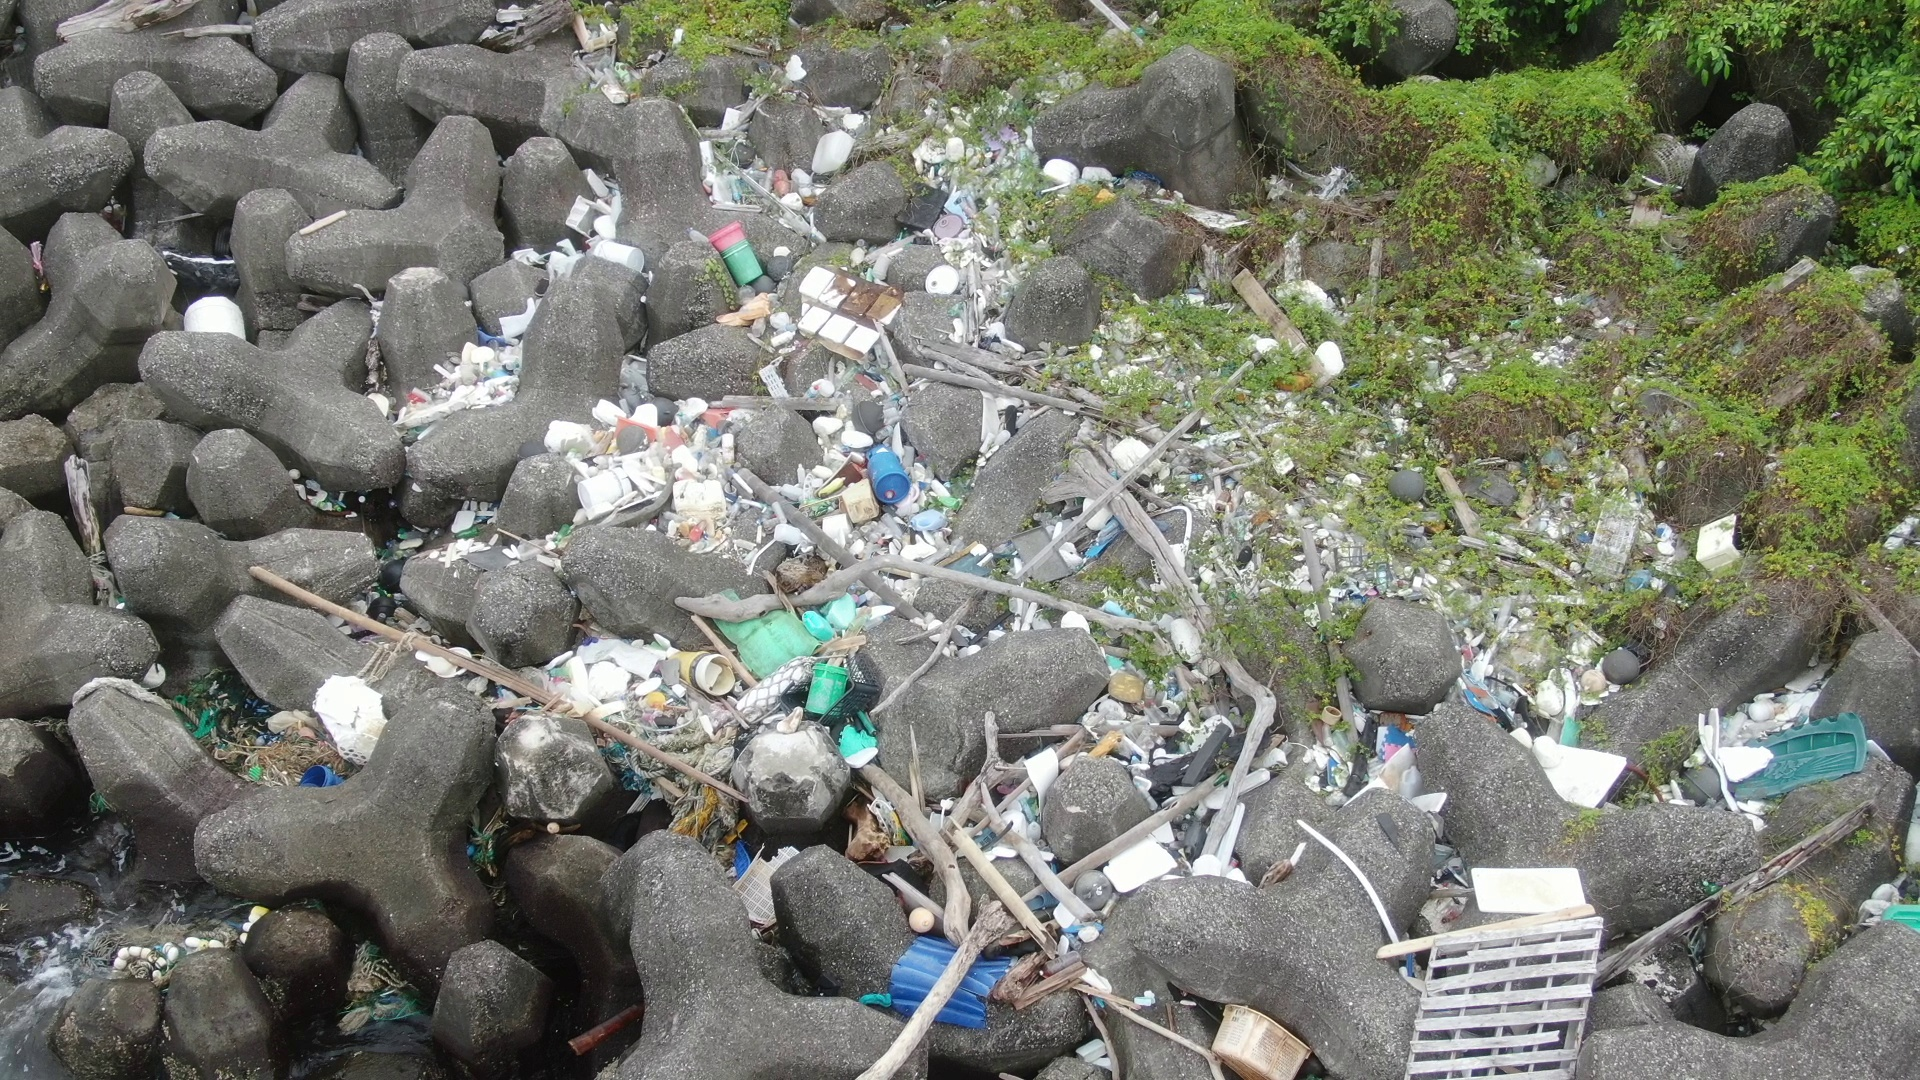garbage: (578, 385, 1295, 915), (696, 51, 1146, 371), (361, 164, 661, 440), (868, 919, 1324, 1080), (1311, 629, 1677, 827), (1367, 856, 1625, 1080), (255, 447, 570, 626), (161, 645, 404, 804), (1680, 702, 1888, 840), (1232, 247, 1353, 401), (100, 894, 280, 986), (1578, 498, 1760, 578), (336, 928, 414, 1035), (462, 781, 521, 890), (555, 1000, 657, 1054), (177, 290, 255, 351), (1862, 880, 1917, 953)
